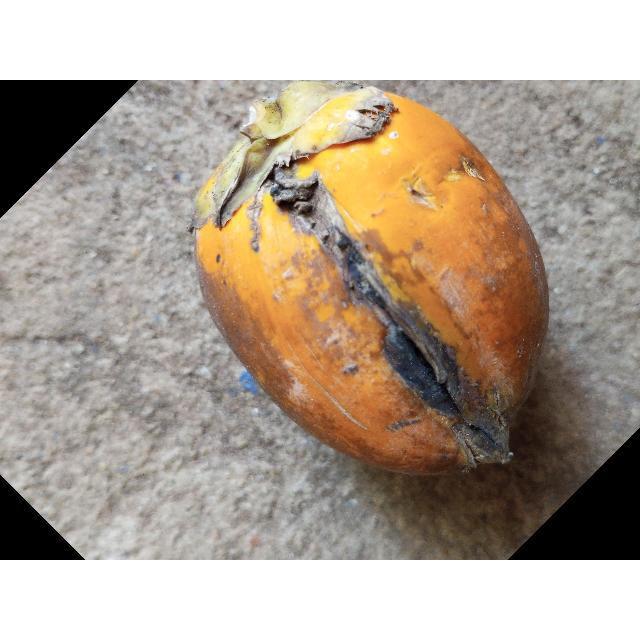damaged: (192, 80, 550, 478)
